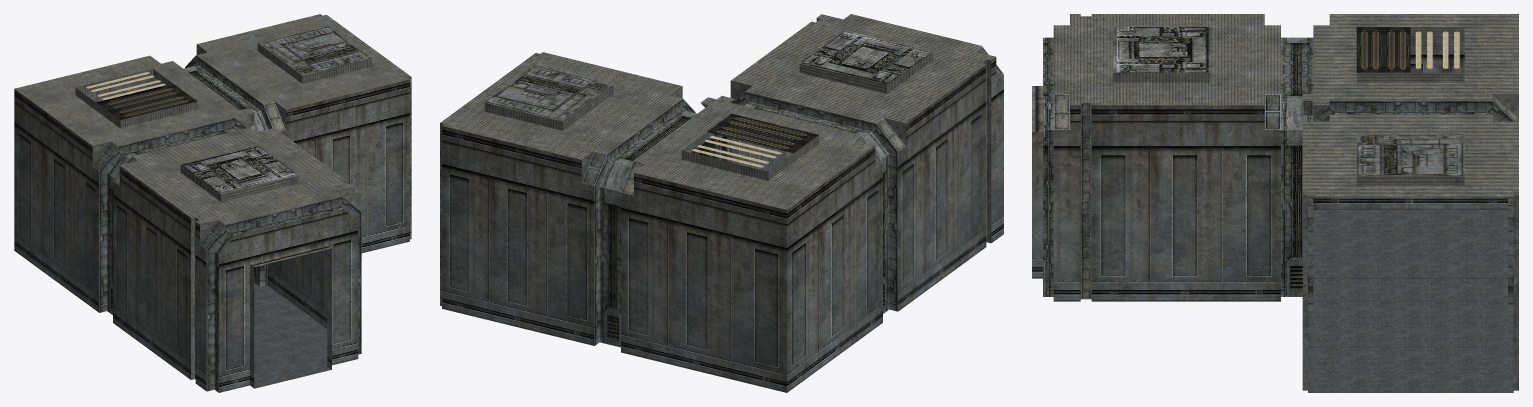
Rendered from poi_all_impl_bunker_abandoned_s01_r24_landing_mesh.fbx.
The picture shows the model from 3 angles, left to right: view 1: azimuth 30°, elevation 25°; view 2: azimuth 150°, elevation 25°; view 3: azimuth 270°, elevation 25°; orthographic projection. The views are drawn at different scales.
Visible parts, largest first — view 1: mesh_node; view 2: mesh_node; view 3: mesh_node.
Boxes of the visible parts, x1,y1,x2,y2 form: mesh_node: (14,14,411,392); mesh_node: (440,14,1003,392); mesh_node: (1032,14,1518,392).
Bounding box in the file's own units: 8 × 4.2 × 9.
